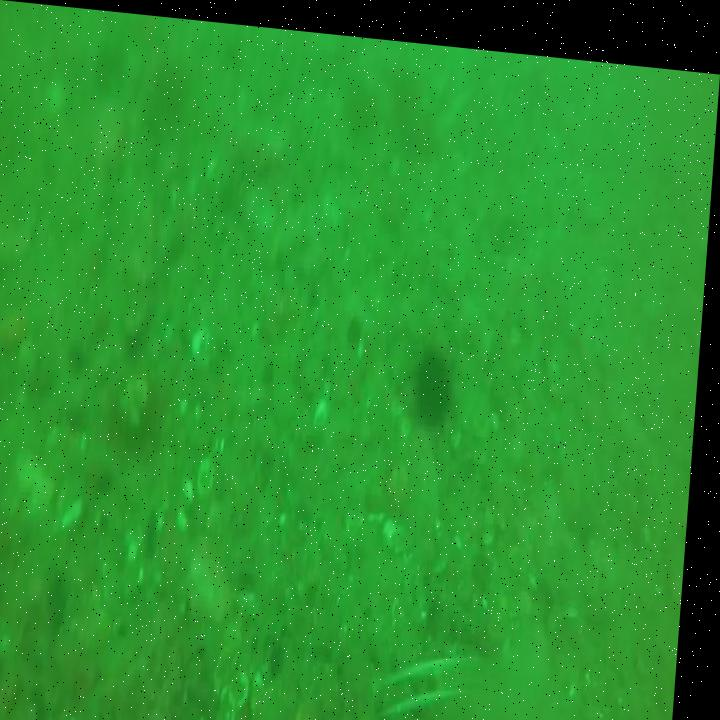echinus: (420, 337, 463, 418)
scallop: (222, 637, 261, 707), (204, 447, 221, 493), (186, 474, 201, 499)
